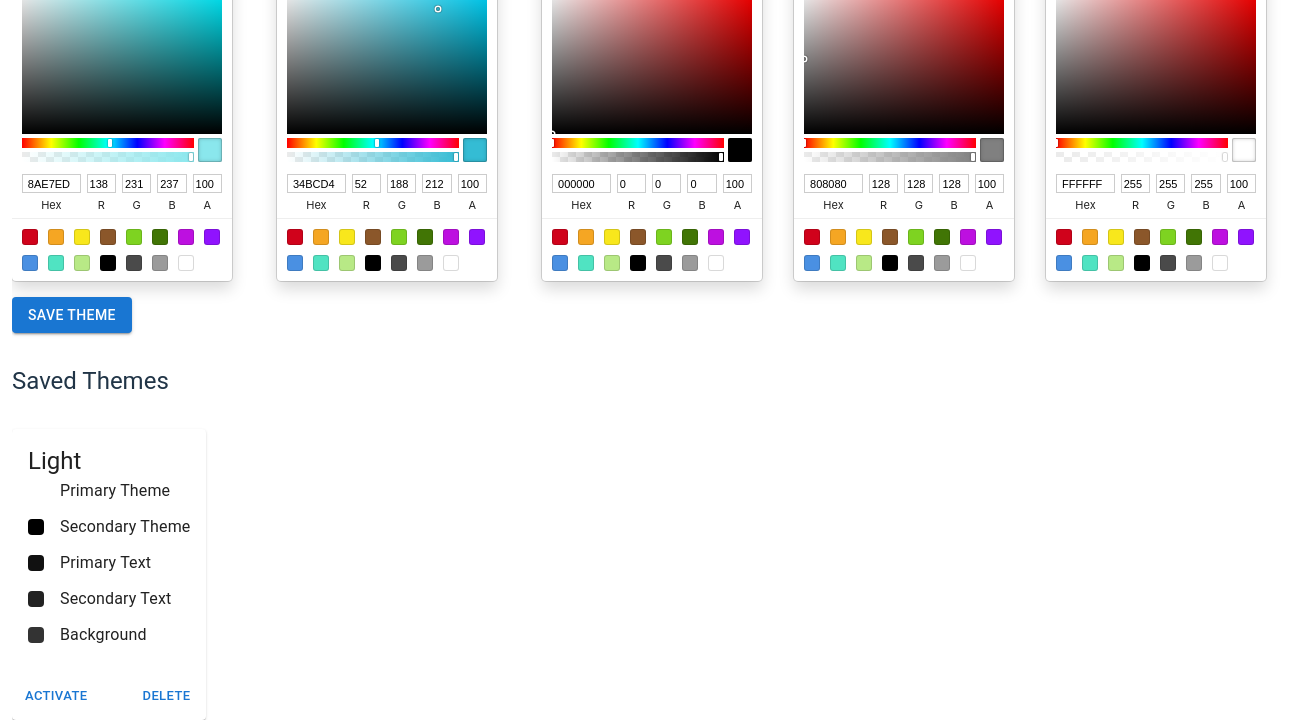
Test: ThemeSection › deletes a theme on clicking “Delete”
(page scrolled)
Expected: the text "Light" is shown, top-left (28, 447), bottom-right (81, 475)
Click the "Delete" button for the Light theme
Click the button "Delete" at (166,696), box top-left (134, 681), bottom-right (198, 712)
(page scrolled)
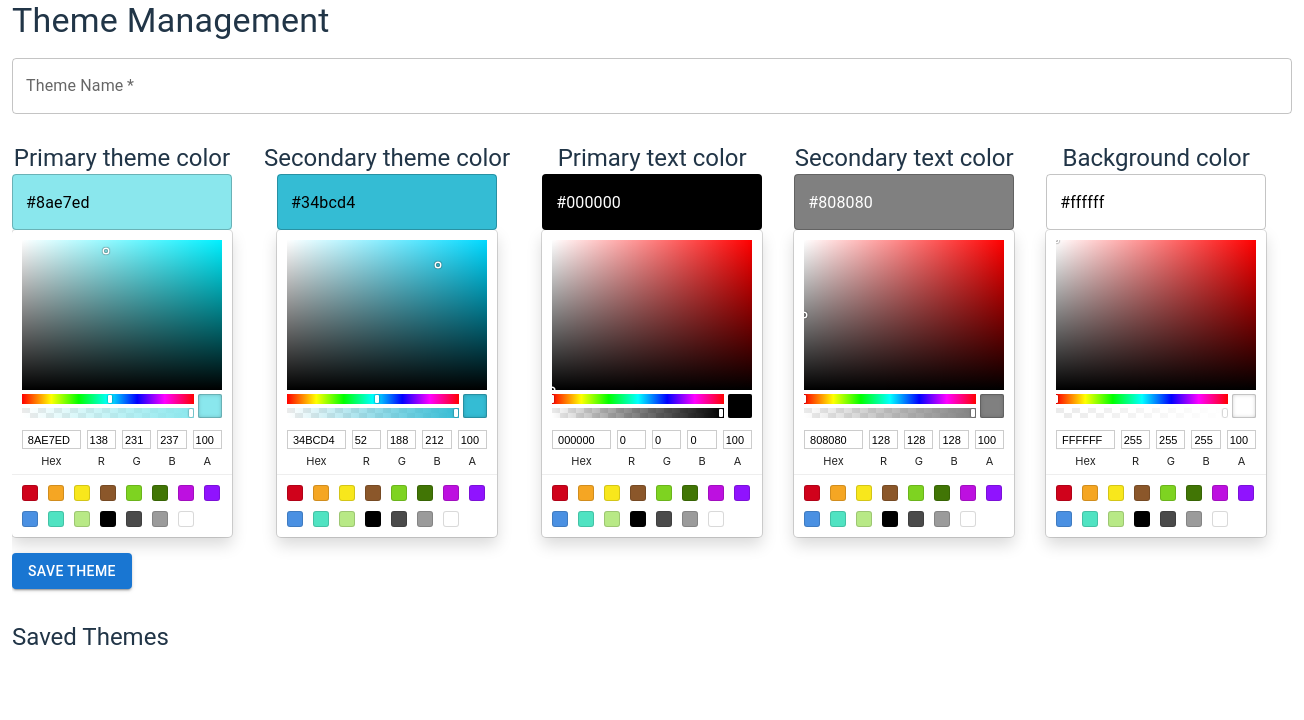
Result: the text "Light" is gone
